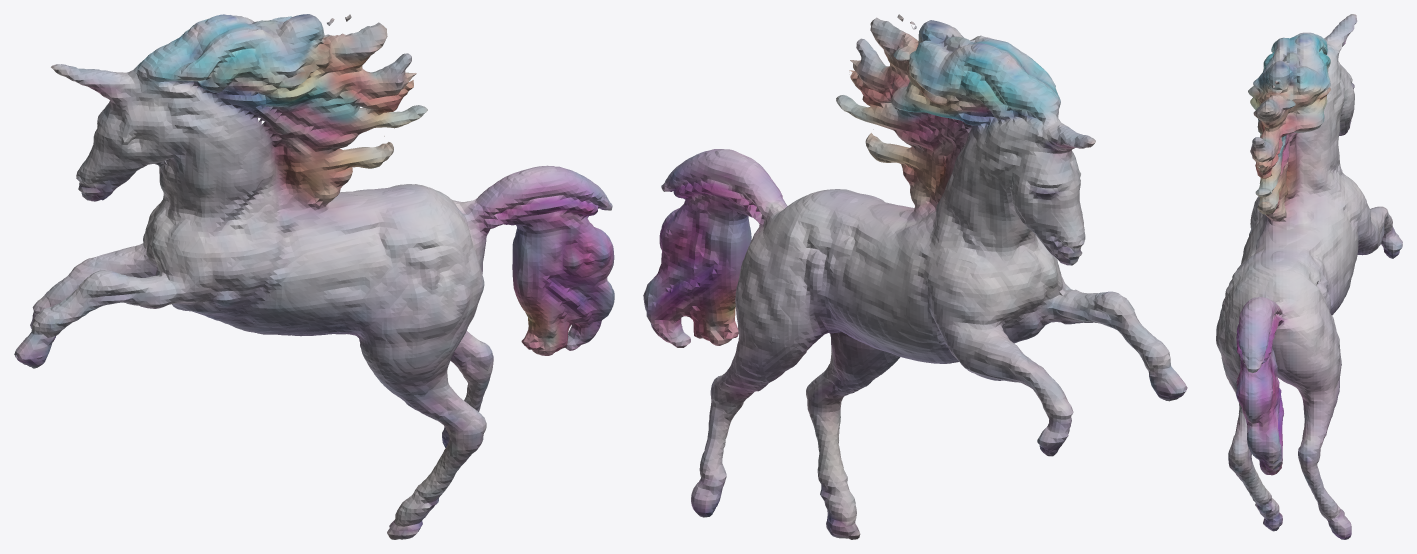
Rendered from tmp9yld9s7n.glb.
3 views of the same model, side by side, from view 1: azimuth 30°, elevation 25°; view 2: azimuth 150°, elevation 25°; view 3: azimuth 270°, elevation 25° (orthographic). The views are drawn at different scales.
Visible parts, largest first — view 1: world; view 2: world; view 3: world.
Boxes of the visible parts, left/top/right/bottom form: world: left=14, top=14, right=614, bottom=539; world: left=643, top=14, right=1187, bottom=539; world: left=1216, top=14, right=1402, bottom=539.
Bounding box in the file's own units: 1.02 × 0.9406 × 0.3718.
